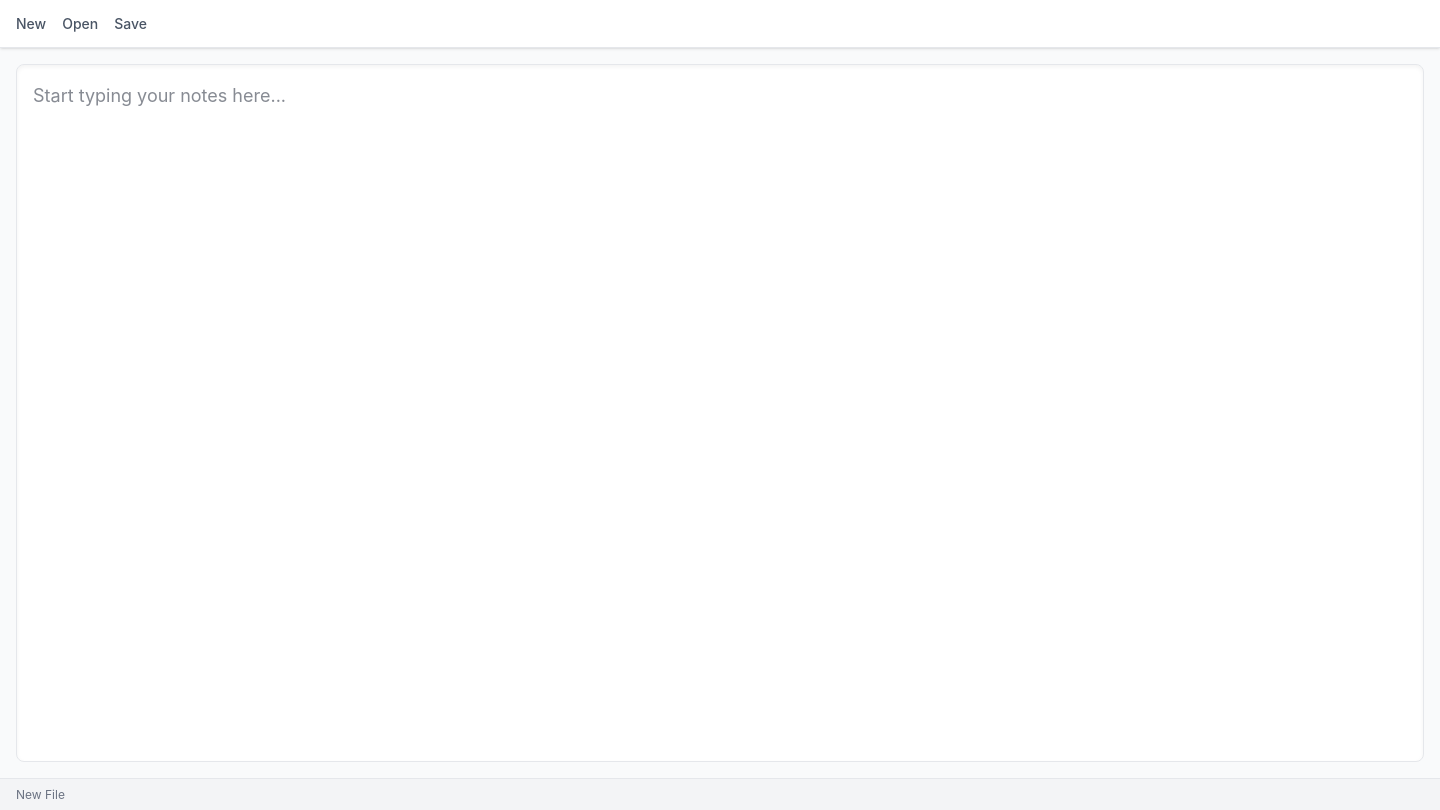
MemoPage › updates content when typing
Type "new content" into the text box at (720, 413), box [33,81,1407,745]
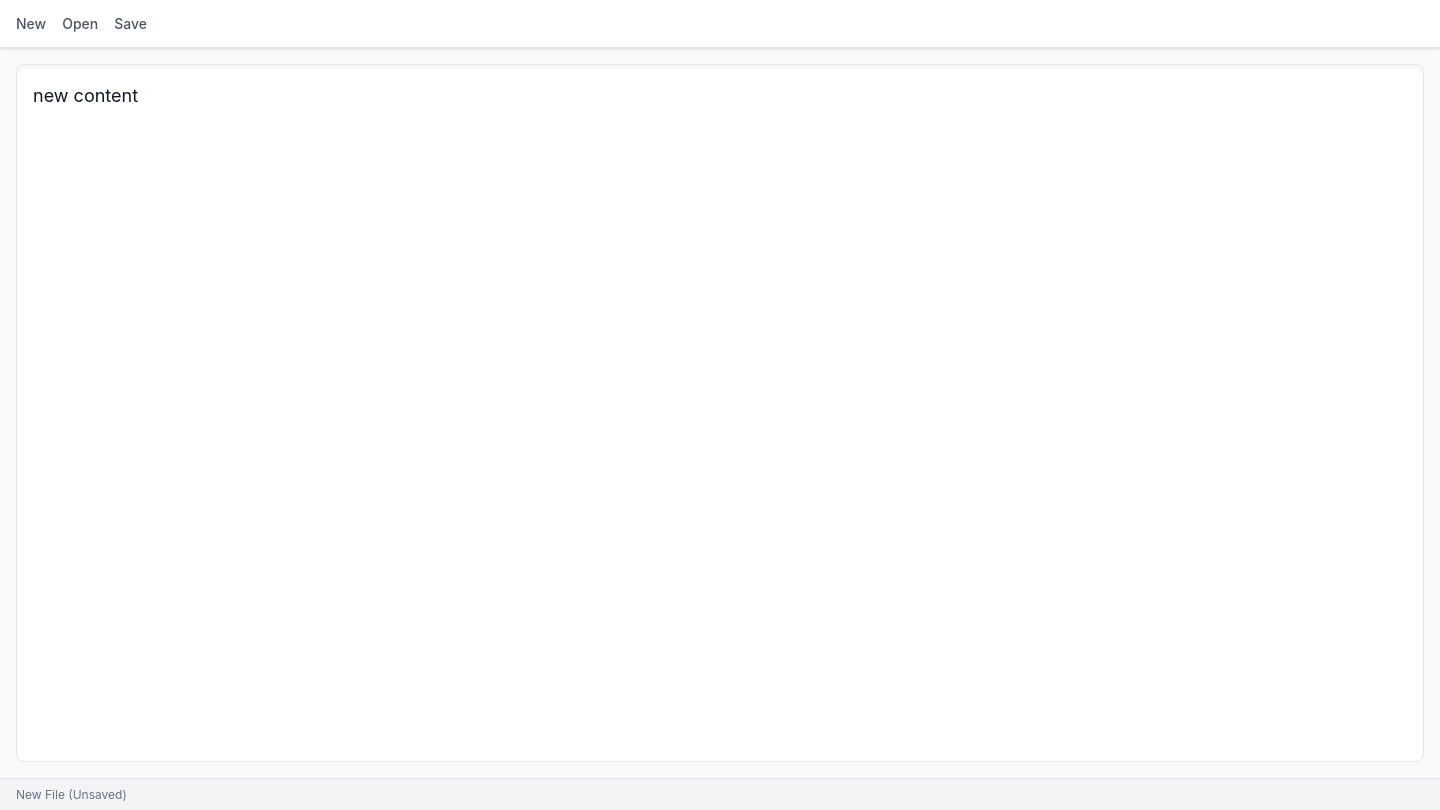
Result: the text "New File (Unsaved)" is shown at [16,786,127,802]
